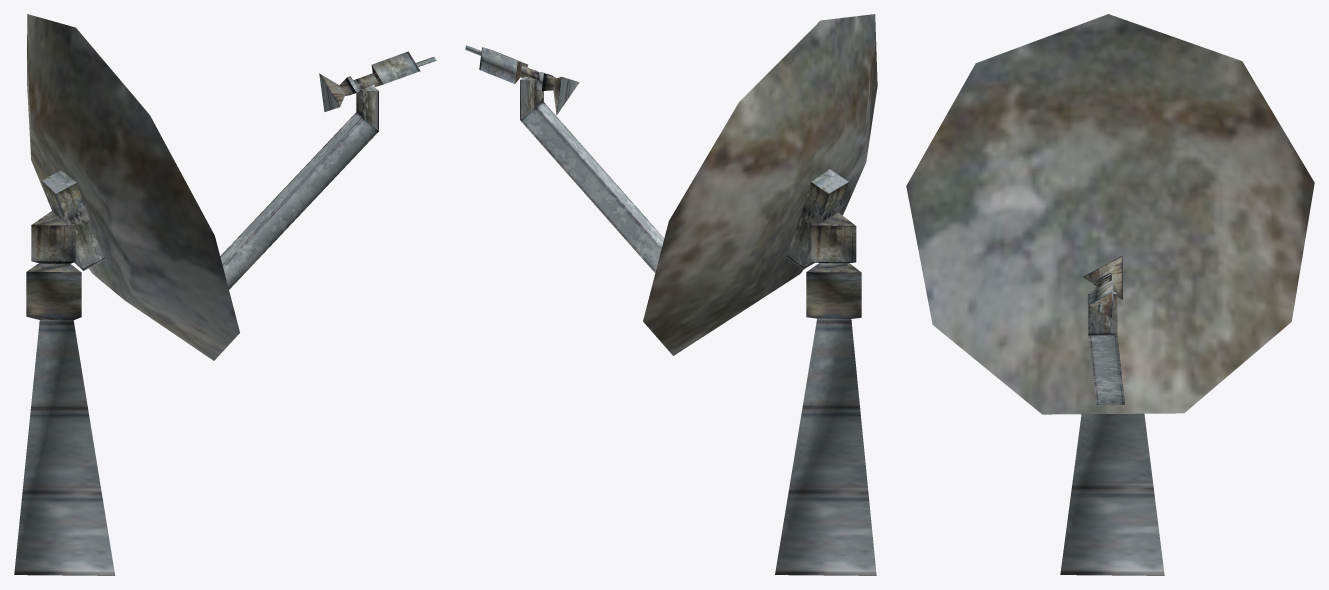
Rendered from Dish_2.fbx.
3 renders of one model, left to right at view 1: azimuth 30°, elevation 25°; view 2: azimuth 150°, elevation 25°; view 3: azimuth 270°, elevation 25°, orthographic. The views are drawn at different scales.
Visible parts, largest first — view 1: Dish_2; view 2: Dish_2; view 3: Dish_2.
Boxes of the visible parts, bbox=[...] form: Dish_2: bbox=[14, 14, 436, 575]; Dish_2: bbox=[465, 14, 877, 575]; Dish_2: bbox=[906, 14, 1314, 575].
Size of the model in its own units: 126 by 155 by 104.
